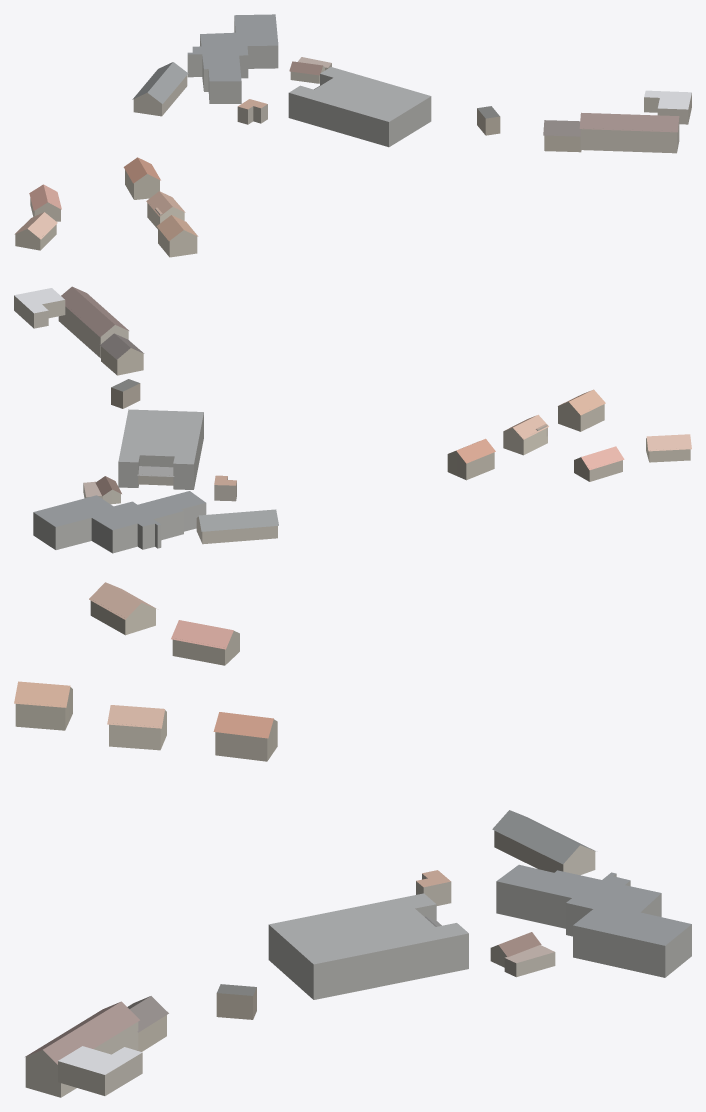
The picture shows the model from 3 angles, top to bottom: view 1: azimuth 30°, elevation 25°; view 2: azimuth 150°, elevation 25°; view 3: azimuth 270°, elevation 25°; orthographic projection. The views are drawn at different scales.
Parts seen in each view (by area): view 1: tuile; view 2: tuile; view 3: tuile.
Part boxes in pixels (x1=…): tuile: x1=14, y1=14, x2=691, y2=257; tuile: x1=14, y1=286, x2=691, y2=553; tuile: x1=14, y1=582, x2=691, y2=1097.
Size of the model in its own units: 253 by 22.79 by 157.
